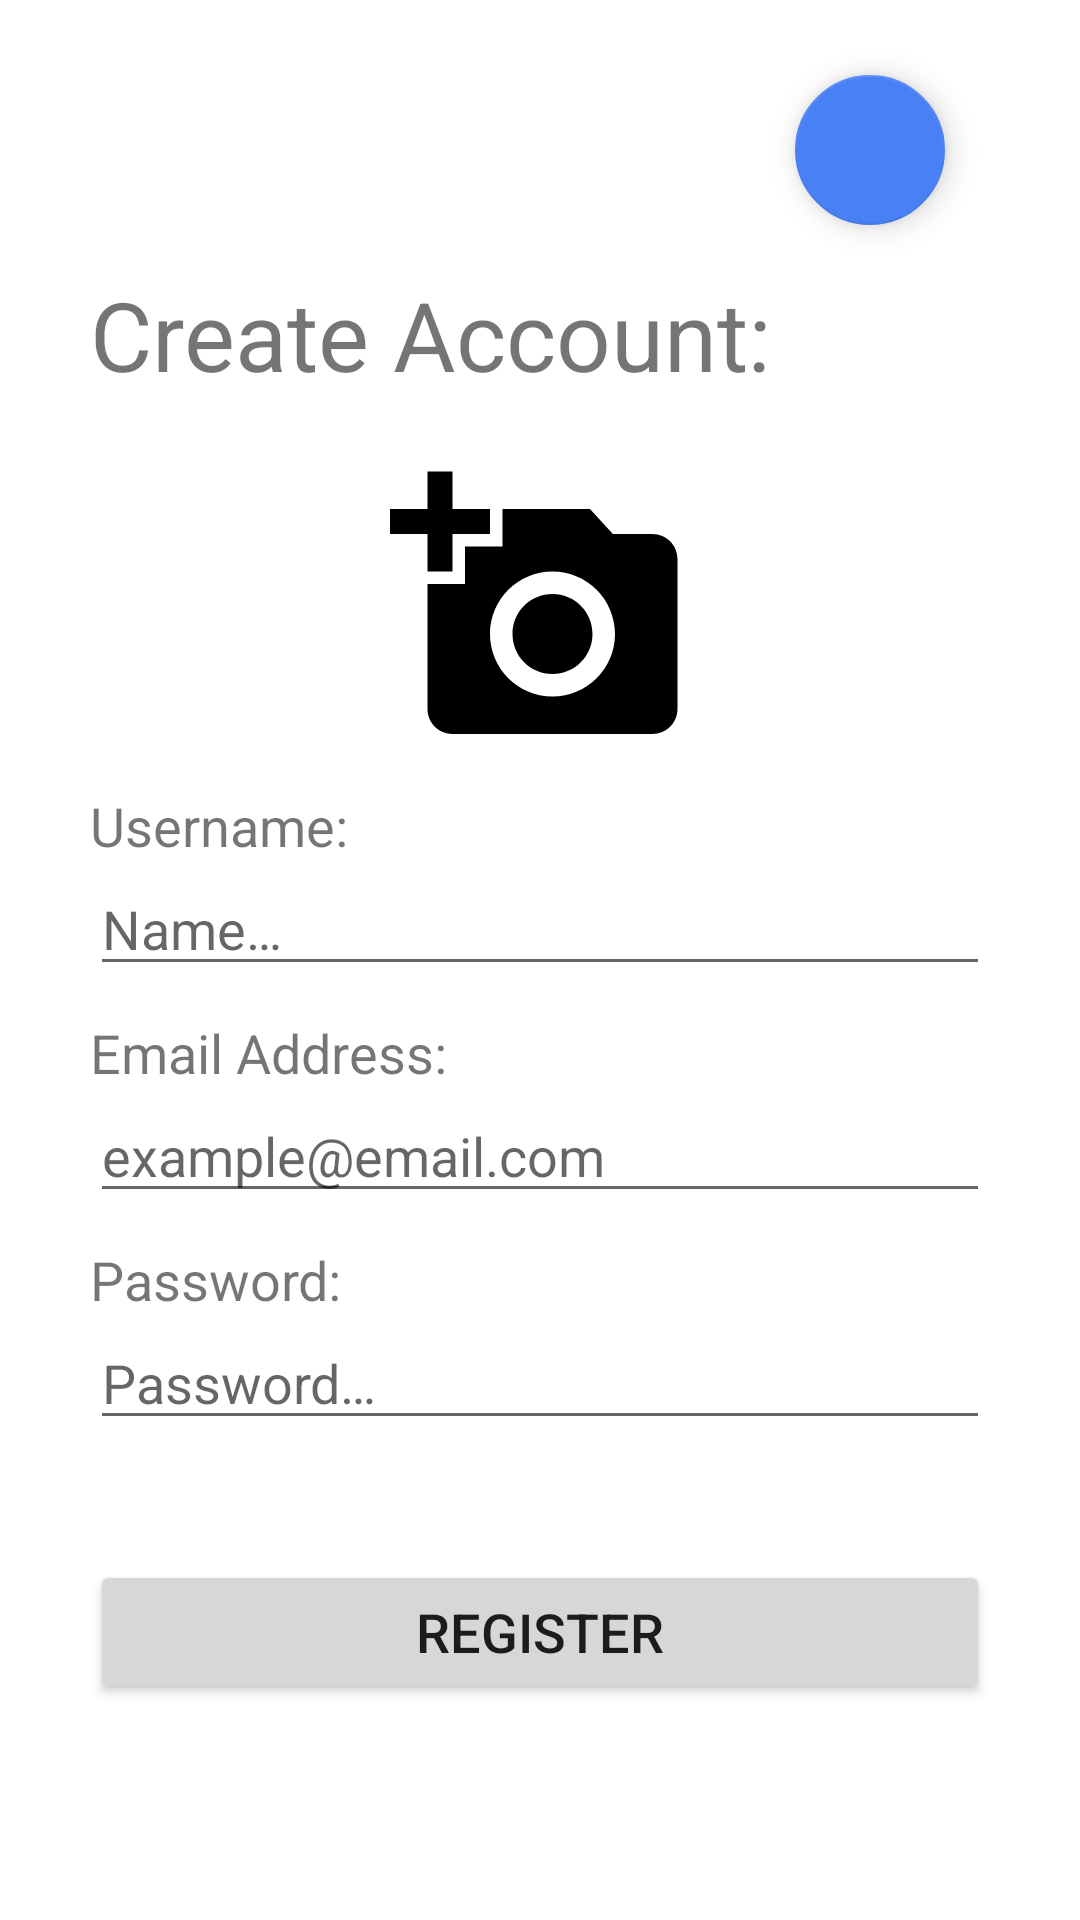

Icons on this 1080w x 1920h Android screen, each with its box as [x1, y1, x2, y2]:
add photo: [390, 471, 678, 734]
